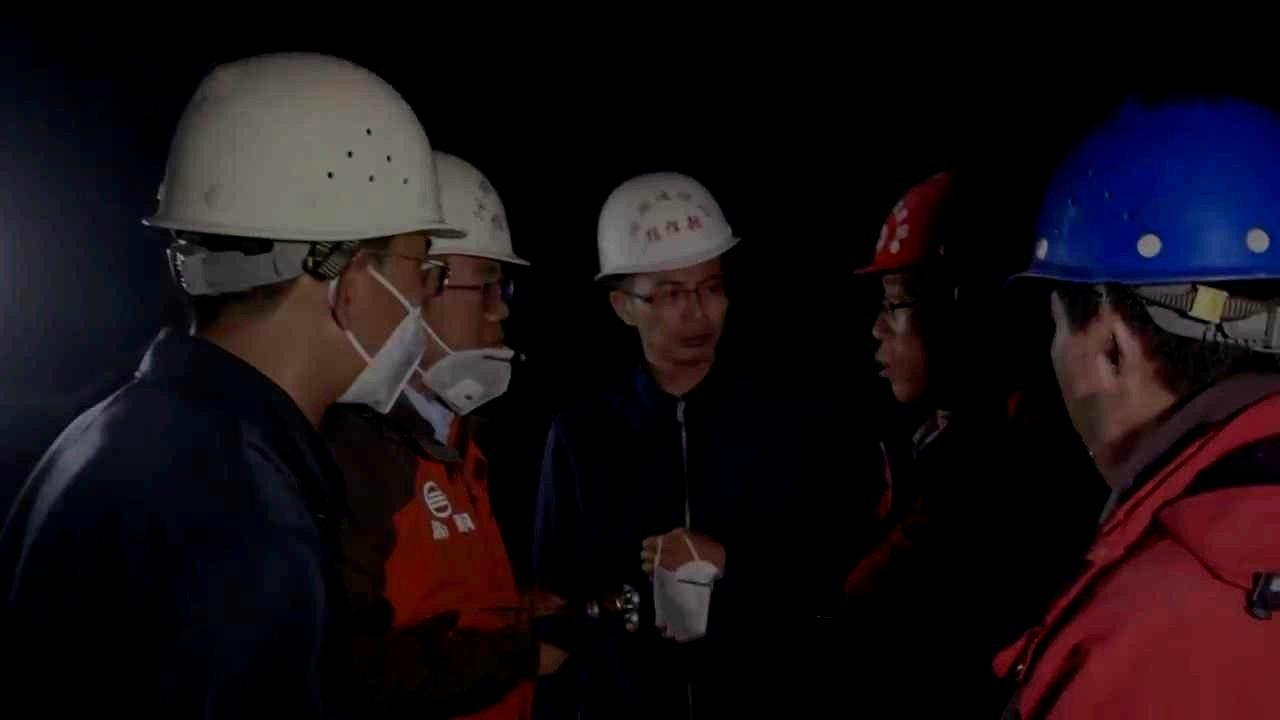helmet: (138, 52, 470, 416), (1006, 95, 1280, 456), (850, 174, 1018, 403), (413, 149, 531, 413), (592, 171, 742, 363)
